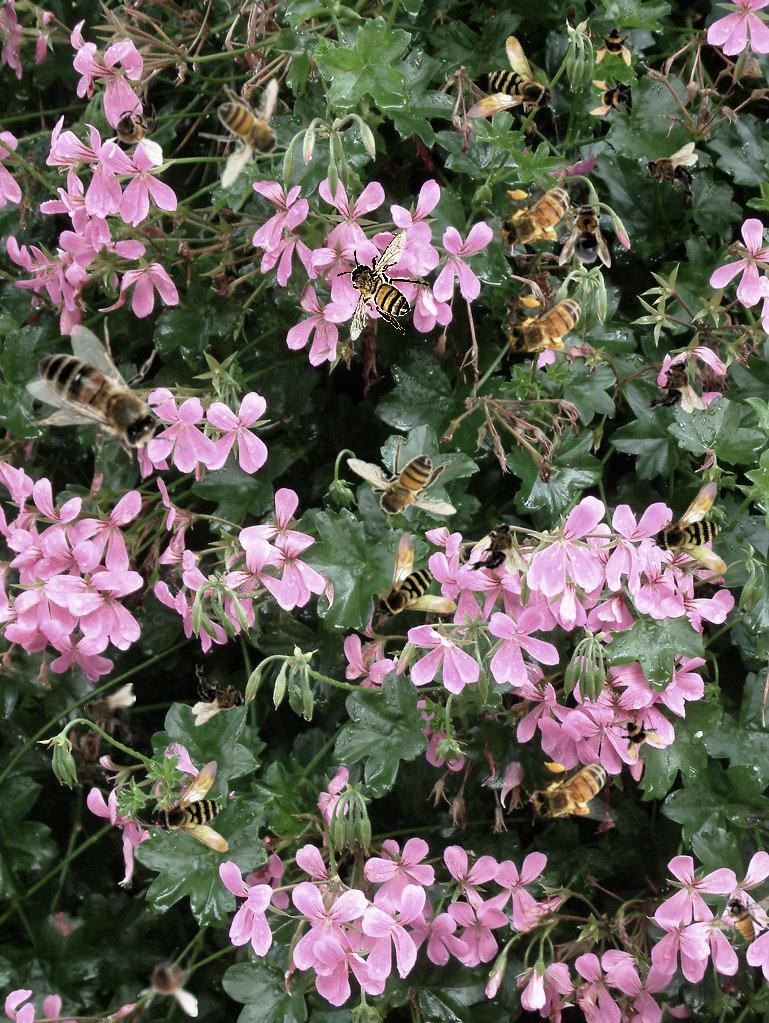Bee: (26, 316, 188, 483), (442, 30, 560, 144), (148, 746, 262, 862), (647, 467, 761, 583), (336, 230, 430, 341), (346, 435, 457, 529), (198, 78, 292, 189), (488, 178, 588, 257), (375, 532, 457, 620), (526, 758, 619, 826), (501, 293, 594, 361), (137, 947, 198, 1017), (102, 96, 163, 166), (608, 704, 670, 766), (559, 200, 611, 268), (192, 664, 245, 726), (467, 522, 529, 575), (645, 142, 698, 204), (643, 360, 705, 413), (83, 683, 136, 745), (705, 894, 769, 944), (594, 23, 638, 67), (589, 78, 633, 122)
